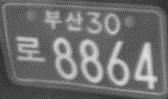0: (103, 12, 120, 35)
3: (85, 10, 102, 34)
4: (133, 42, 160, 92)
6: (105, 39, 130, 86)
8: (52, 36, 79, 80), (79, 38, 104, 84)
로: (15, 35, 45, 64)
부산_O: (42, 8, 84, 31)
